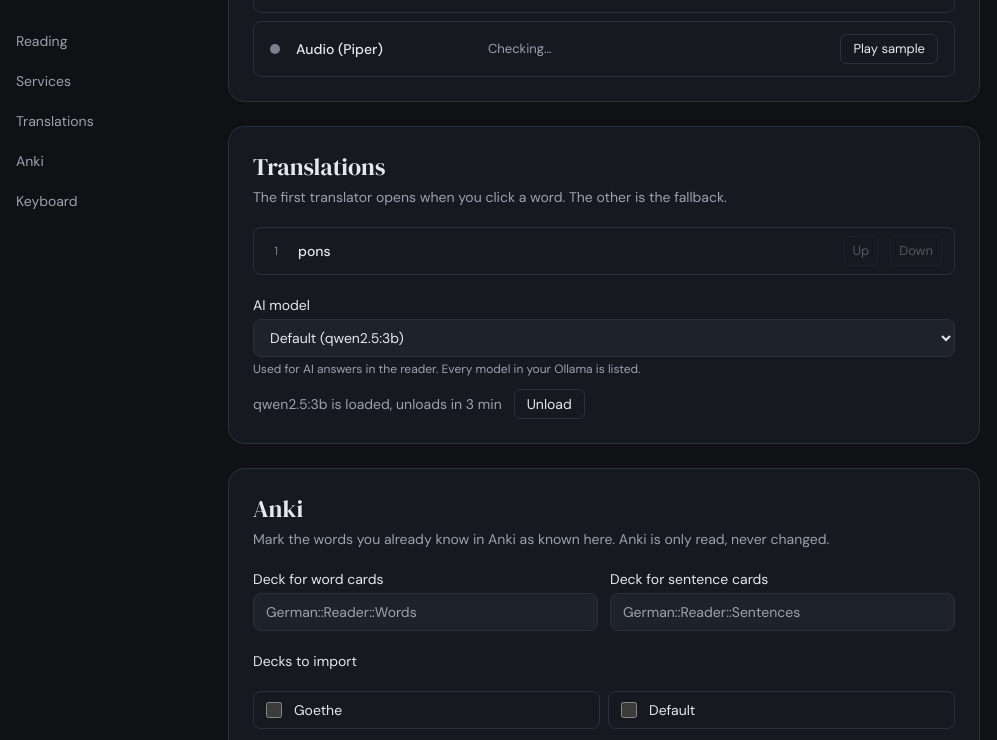
SettingsPage › shows the loaded model and unloads it
(page scrolled)
Expected: the text "qwen2.5:3b is loaded, unloads in 3 min Unload" is shown, x1=253 y1=389 x2=585 y2=419
Click the button "Unload".
click(549, 404)  # box x1=514 y1=389 x2=585 y2=419
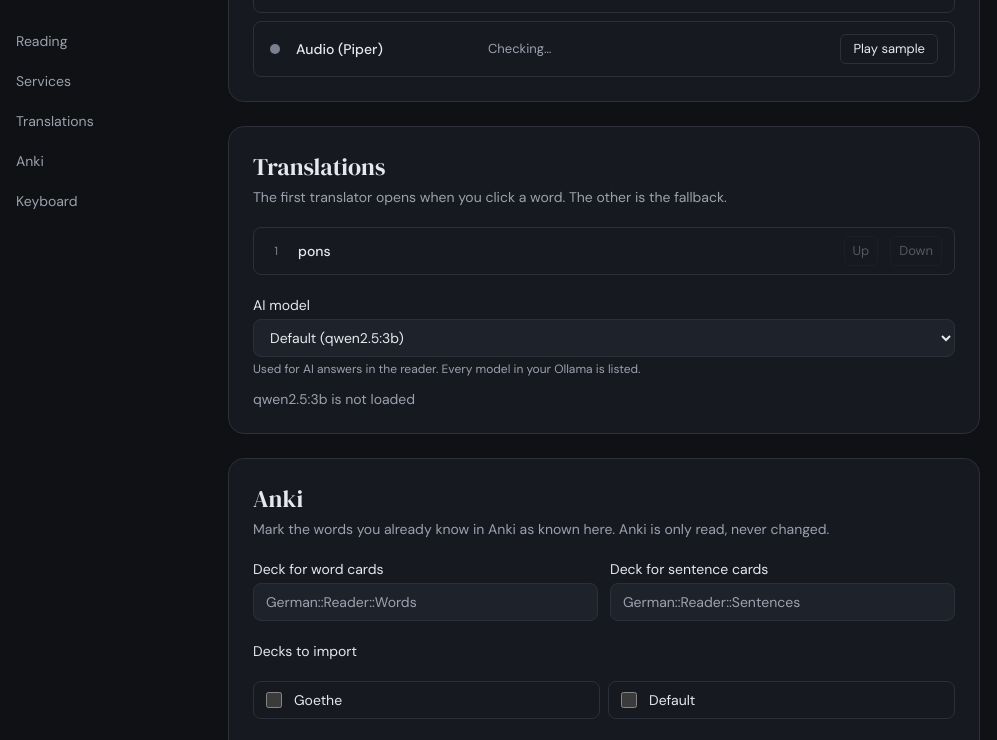
Expected: the text "qwen2.5:3b is not loaded" is shown, x1=253 y1=390 x2=415 y2=408
